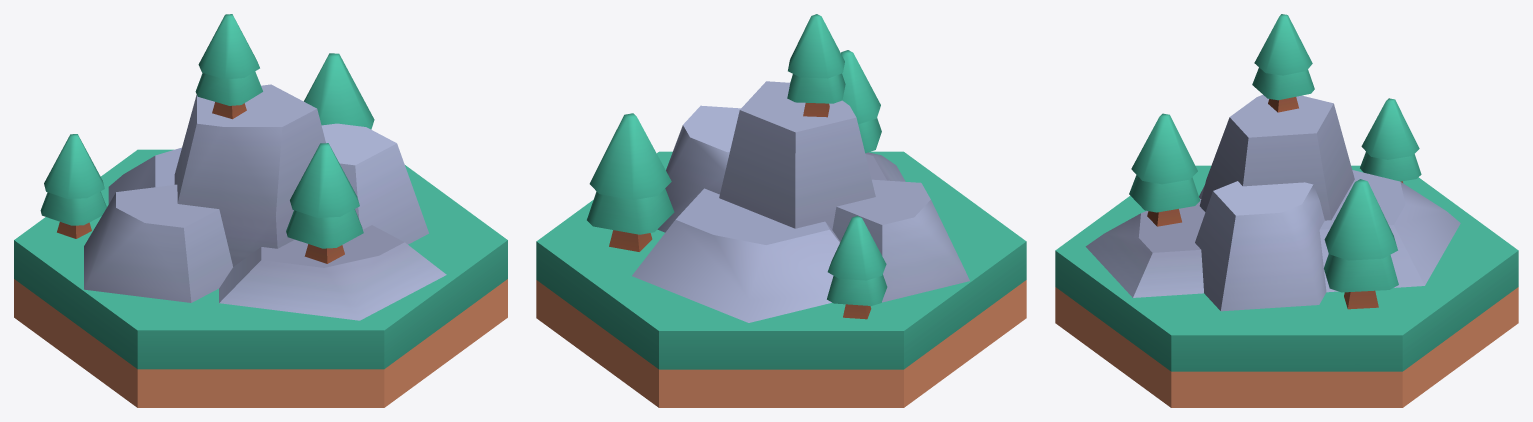
Rendered from kenney-hexagon-grass-hill.glb.
3 views of the same model, side by side, from view 1: azimuth 30°, elevation 25°; view 2: azimuth 150°, elevation 25°; view 3: azimuth 270°, elevation 25° (orthographic). The views are drawn at different scales.
Parts seen in each view (by area): view 1: grass_hill; view 2: grass_hill; view 3: grass_hill.
Boxes of the visible parts, x1=… form: grass_hill: x1=14, y1=14, x2=507, y2=407; grass_hill: x1=536, y1=14, x2=1026, y2=407; grass_hill: x1=1055, y1=14, x2=1518, y2=407.
Bounding box in the file's own units: 1 × 0.8033 × 1.15.
1 material, 1 textured.
